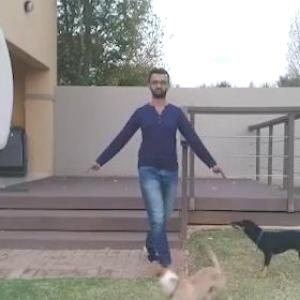land: (110, 79, 202, 252)
